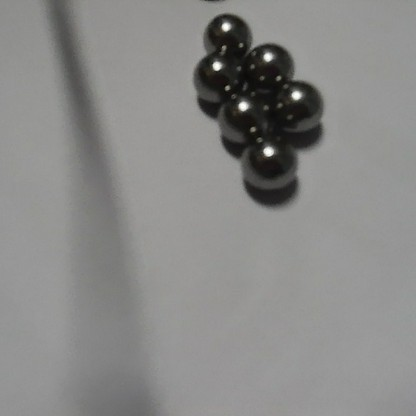ironball: (266, 80, 323, 137), (241, 138, 298, 192), (216, 90, 269, 144), (192, 50, 244, 102), (203, 10, 252, 60), (242, 42, 297, 83)
